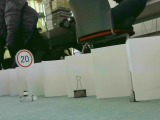speed_20: (15, 49, 34, 68)
